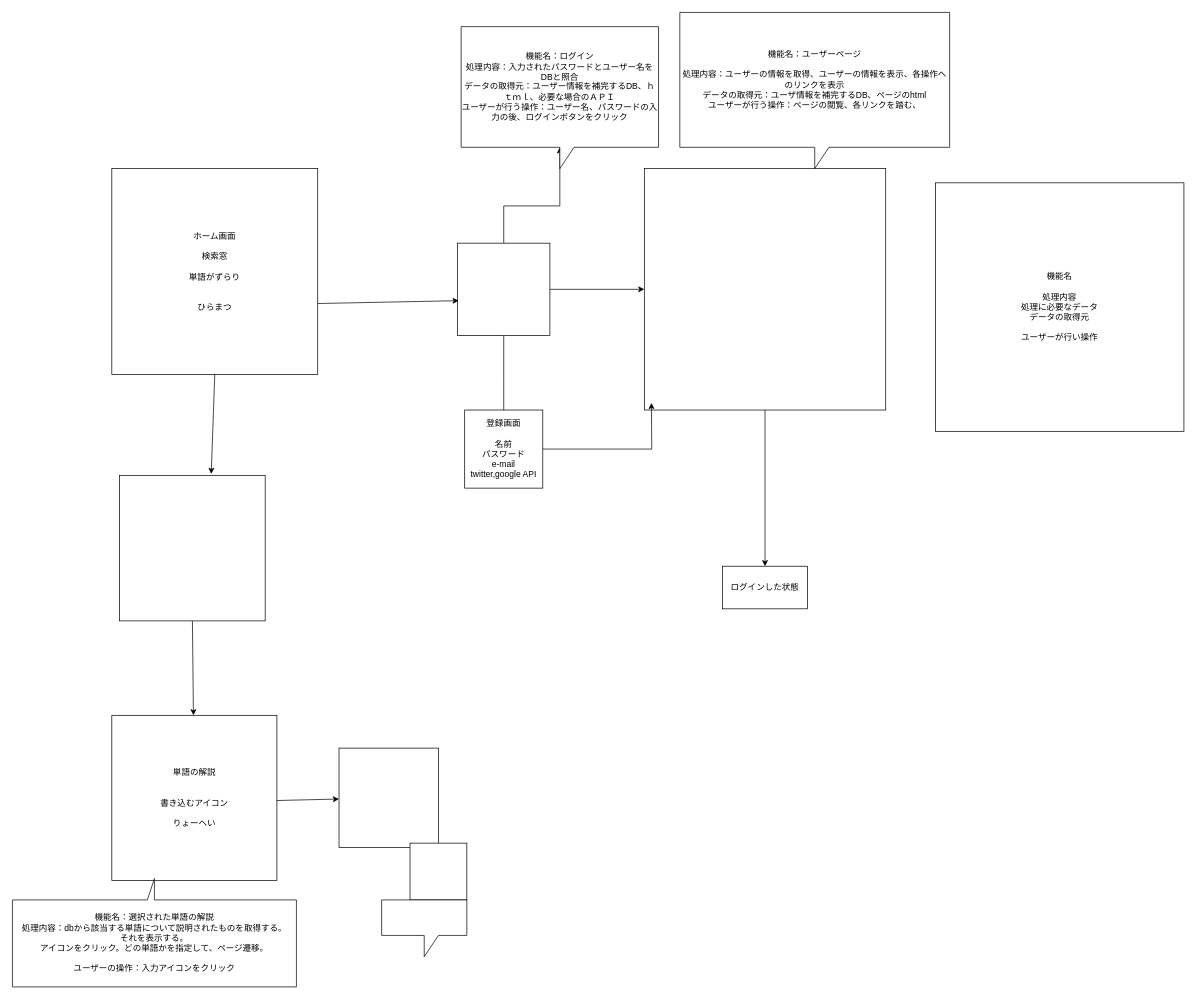
Some shapes in this 1196 by 1000 pixel diagram are drawn without their labels. The shapes that lost their labels are listed below. From the top down, each one's box as (x1, y1, x2, y2) in pixels, then its label:
(457, 242, 550, 335): ログイン パスワード ユーザー名 ひろみ
(644, 168, 886, 410): ユーザーページ ユーザー名 過去の投稿一覧 ログアウト s
(119, 475, 265, 621): 単語 解説 解説 解説 ひらまつ
(338, 747, 438, 848): 解説 投稿 りょーへい
